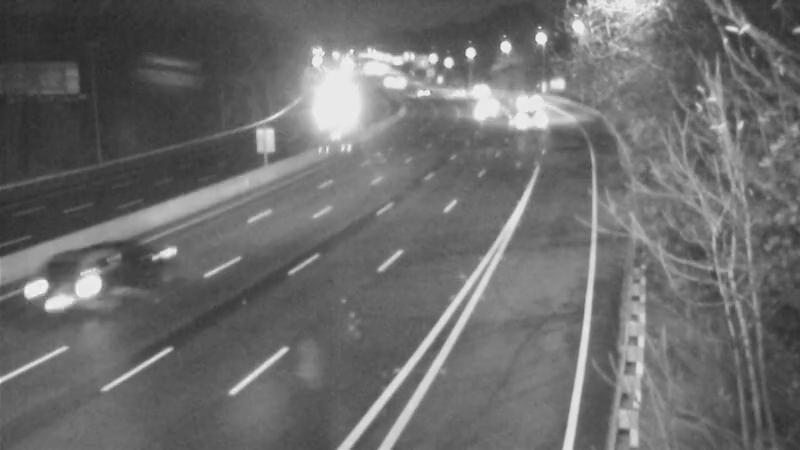vehicle: (25, 251, 105, 331), (403, 68, 453, 118), (500, 74, 550, 124), (455, 78, 505, 128), (457, 87, 507, 137), (498, 99, 548, 149)
